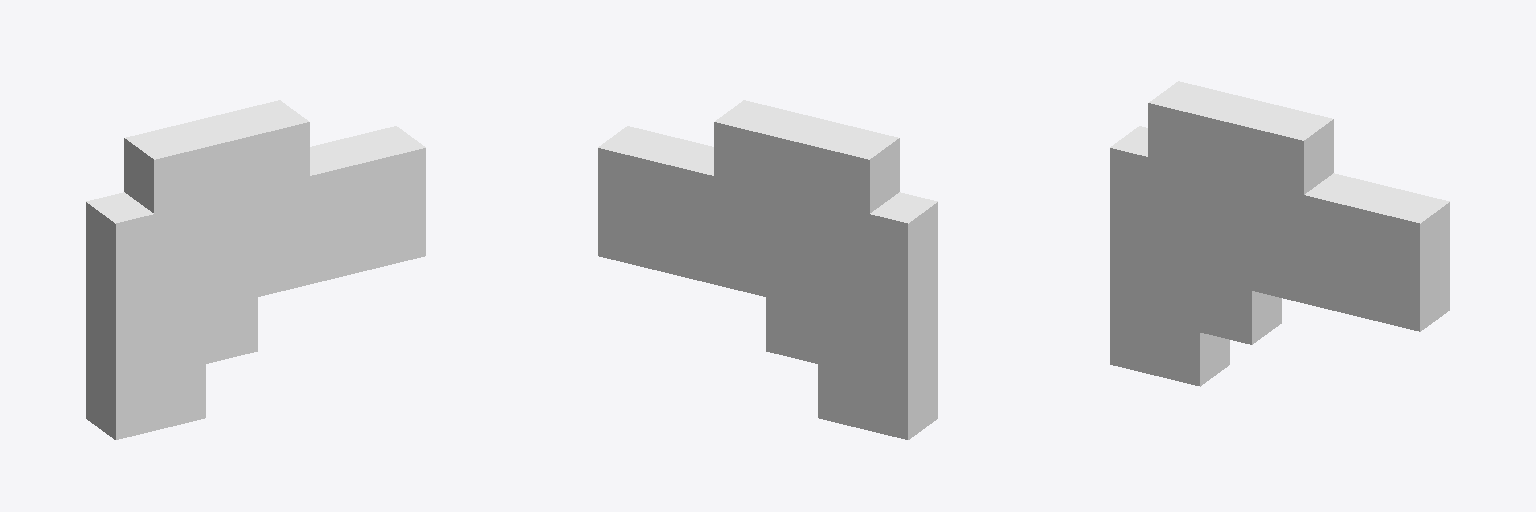
The model's file is Gun1-10 1.obj.
3 renders of one model, left to right at view 1: azimuth 30°, elevation 25°; view 2: azimuth 150°, elevation 25°; view 3: azimuth 330°, elevation 25°, orthographic.
Parts seen in each view (by area): view 1: object 1; view 2: object 1; view 3: object 1.
Part boxes in pixels (left/top/right/bottom): object 1: left=86, top=100, right=425, bottom=439; object 1: left=598, top=100, right=937, bottom=439; object 1: left=1110, top=81, right=1449, bottom=386.
Bounding box in the file's own units: 2.4 × 2 × 0.4.